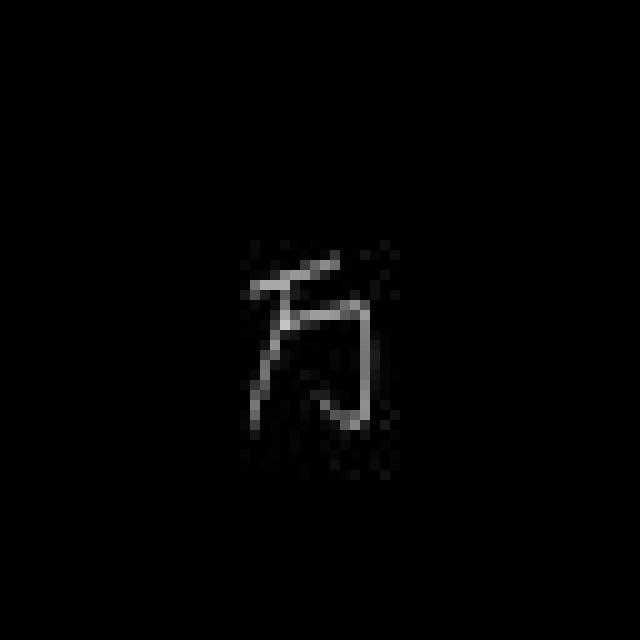10000 -a ten thousand-: (214, 243, 385, 449)
